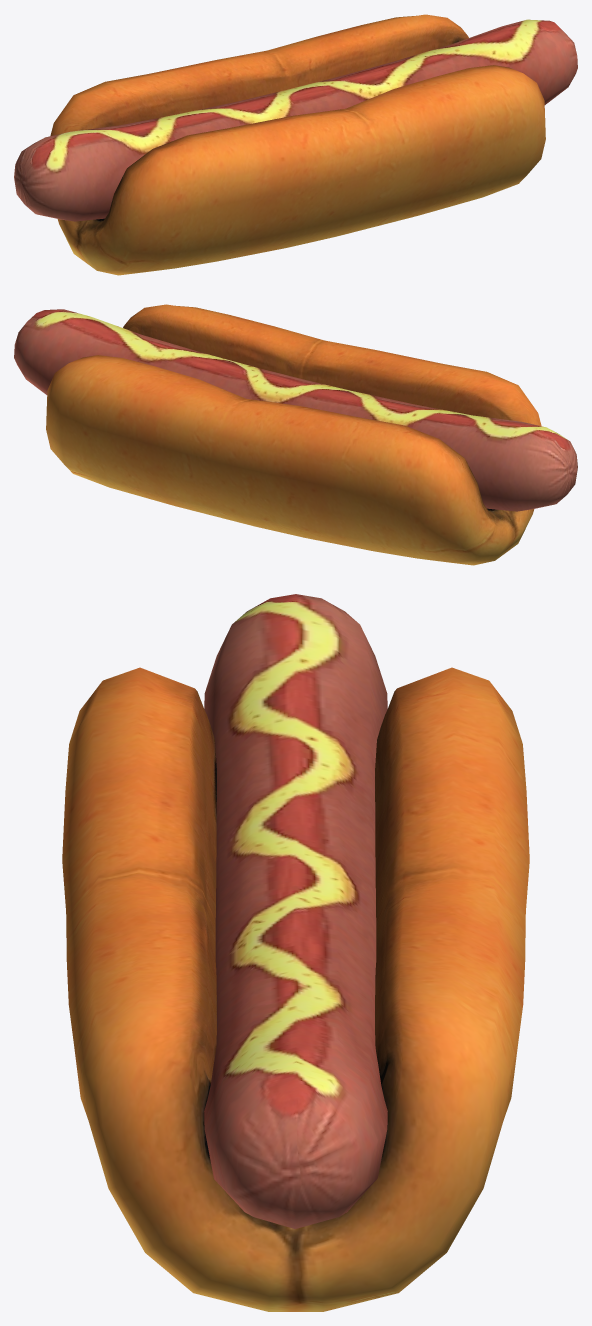
The model's file is hotdog.fbx.
3 renders of one model, top to bottom at view 1: azimuth 30°, elevation 25°; view 2: azimuth 150°, elevation 25°; view 3: azimuth 270°, elevation 25°, orthographic. The views are drawn at different scales.
Visible parts, largest first — view 1: hotdog; view 2: hotdog; view 3: hotdog.
Part boxes in pixels (x1,y1,x2,y2): hotdog: (14, 14, 577, 275); hotdog: (14, 304, 577, 565); hotdog: (62, 594, 529, 1311).
Bounding box in the file's own units: 0.3122 × 0.115 × 0.0849.
